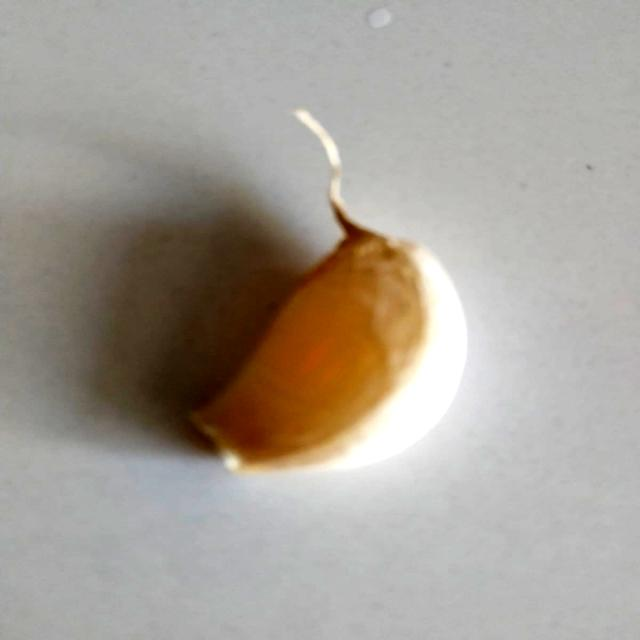garlic: (131, 197, 540, 492)
